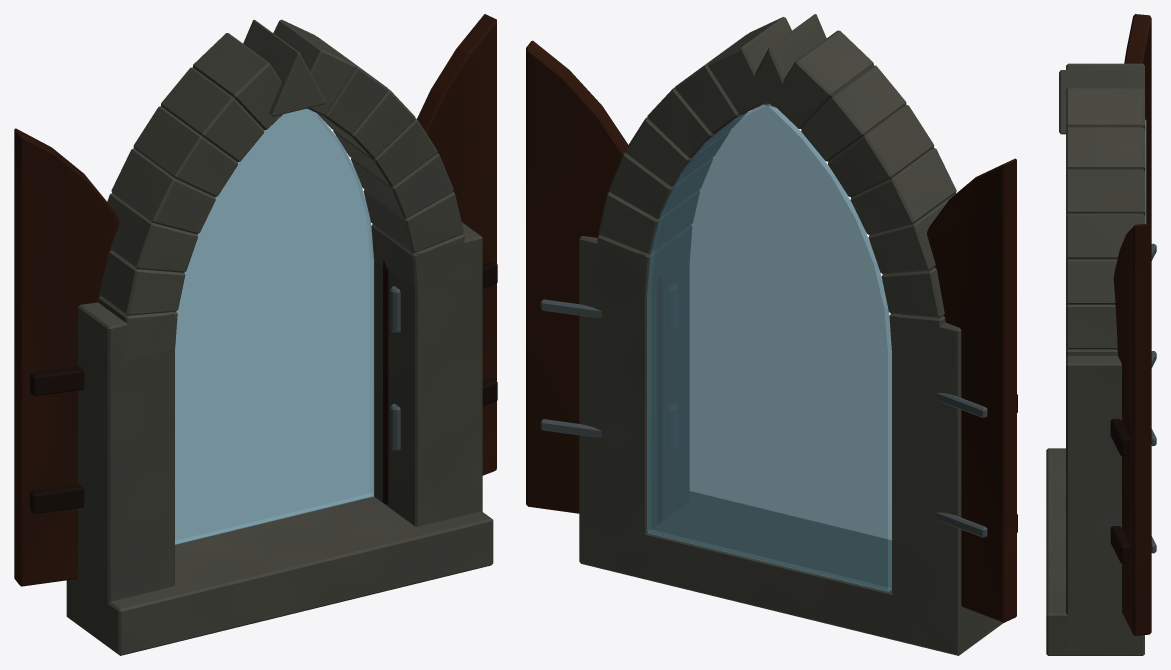
The model's file is stone_pointed_window_open_shutters.glb.
The picture shows the model from 3 angles, left to right: view 1: azimuth 30°, elevation 25°; view 2: azimuth 150°, elevation 25°; view 3: azimuth 270°, elevation 25°; orthographic projection. The views are drawn at different scales.
Visible parts, largest first — view 1: stone_pointed_open_geometry; view 2: stone_pointed_open_geometry; view 3: stone_pointed_open_geometry.
Part boxes in pixels (x1,y1,x2,y2): stone_pointed_open_geometry: (14,14,497,655); stone_pointed_open_geometry: (526,14,1017,655); stone_pointed_open_geometry: (1046,14,1156,655).
Size of the model in its own units: 1.27 by 1.41 by 0.2798.
Materials: 5 (3 with a texture image).
